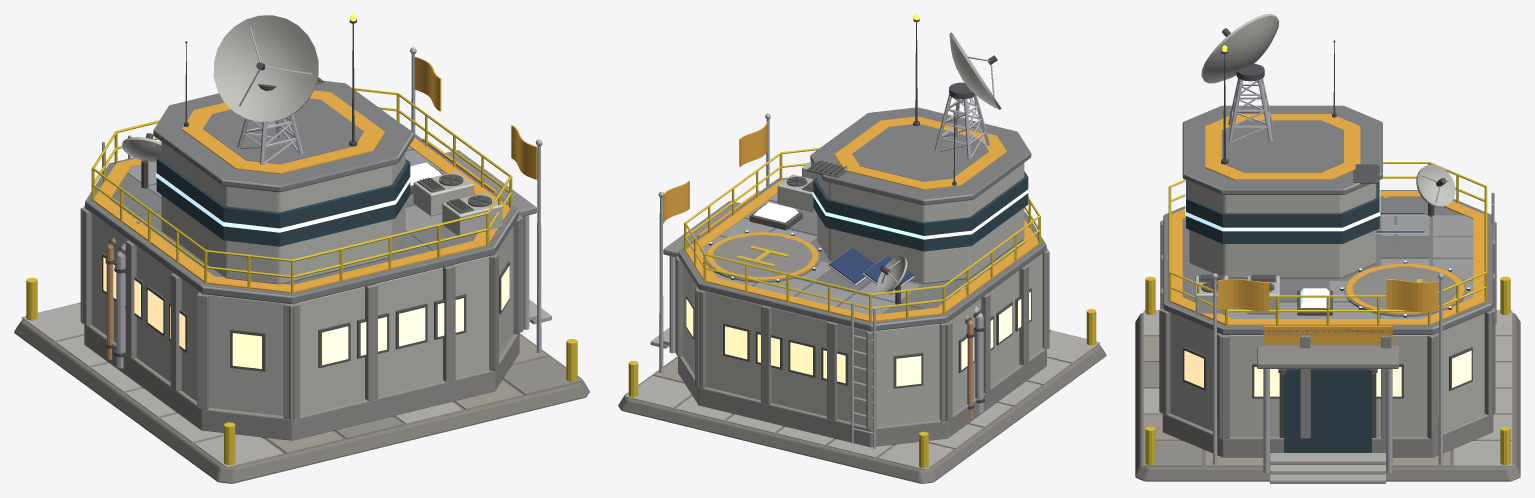
The model's file is command_center_orange.glb.
3 views of the same model, side by side, from view 1: azimuth 30°, elevation 25°; view 2: azimuth 150°, elevation 25°; view 3: azimuth 270°, elevation 25° (orthographic). The views are drawn at different scales.
Parts seen in each view (by area): view 1: Body; view 2: Body; view 3: Body.
Part boxes in pixels (x1,y1,x2,y2): Body: [14, 14, 589, 483]; Body: [618, 14, 1106, 483]; Body: [1135, 14, 1520, 483].
Bounding box in the file's own units: 6.49 × 6.04 × 5.98.
1 material, 1 textured.
